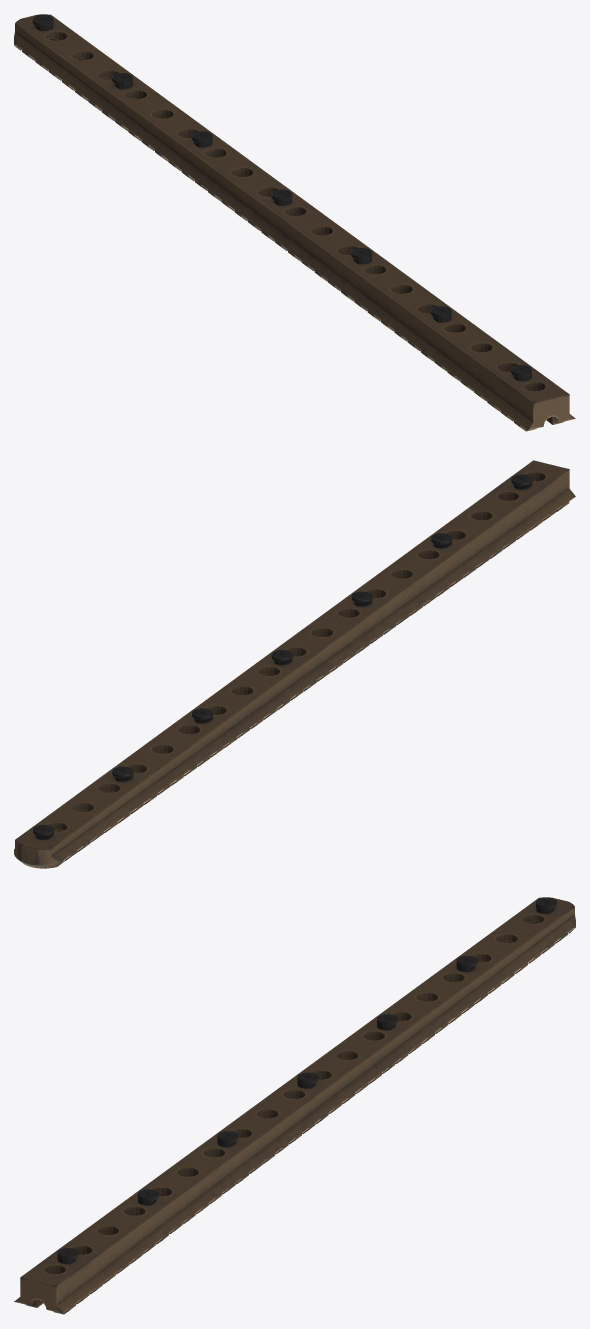
The picture shows the model from 3 angles, top to bottom: view 1: azimuth 30°, elevation 25°; view 2: azimuth 150°, elevation 25°; view 3: azimuth 330°, elevation 25°; orthographic projection.
Visible parts, largest first — view 1: TW_628120c21d5df4475f46a337_PZ_Import; view 2: TW_628120c21d5df4475f46a337_PZ_Import; view 3: TW_628120c21d5df4475f46a337_PZ_Import.
Boxes of the visible parts, left/top/right/bottom form: TW_628120c21d5df4475f46a337_PZ_Import: left=14, top=14, right=575, bottom=431; TW_628120c21d5df4475f46a337_PZ_Import: left=14, top=460, right=575, bottom=868; TW_628120c21d5df4475f46a337_PZ_Import: left=14, top=897, right=575, bottom=1314.
Bounding box in the file's own units: 0.0123 × 0.2271 × 0.00983.
Materials: 1 (1 with a texture image).
